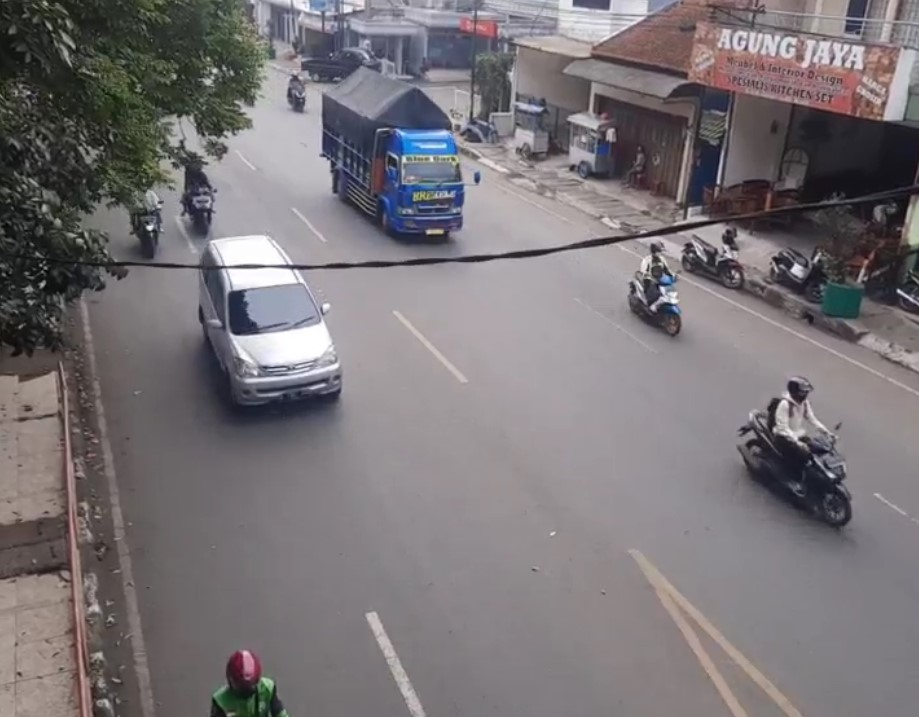mobil: (222, 283, 343, 416), (394, 156, 467, 247)
motor: (737, 372, 857, 529), (627, 241, 683, 339)
